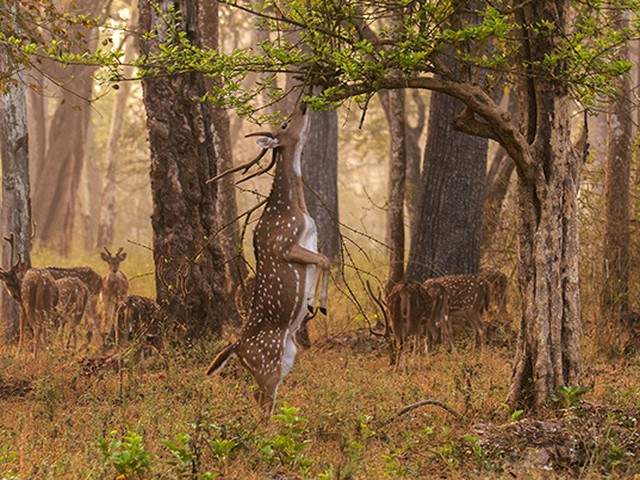deer: (201, 92, 333, 429), (93, 239, 170, 346), (1, 250, 57, 360), (374, 267, 436, 356), (447, 275, 495, 367), (61, 267, 91, 359)
